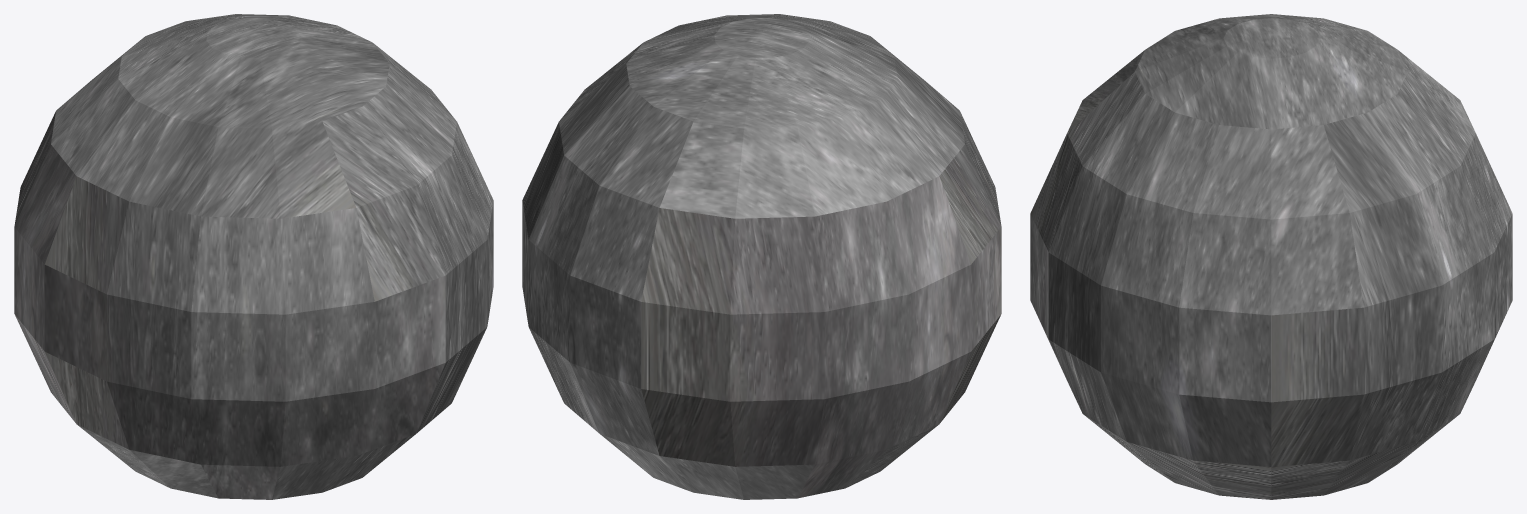
The model's file is Moon.glb.
3 views of the same model, side by side, from view 1: azimuth 30°, elevation 25°; view 2: azimuth 150°, elevation 25°; view 3: azimuth 270°, elevation 25° (orthographic).
Parts seen in each view (by area): view 1: Sphere; view 2: Sphere; view 3: Sphere.
Part boxes in pixels (left/top/right/bottom): Sphere: left=14, top=14, right=493, bottom=499; Sphere: left=522, top=14, right=1001, bottom=499; Sphere: left=1030, top=14, right=1512, bottom=499.
Bounding box in the file's own units: 1.96 × 2 × 1.96.
Materials: 1 (1 with a texture image).
